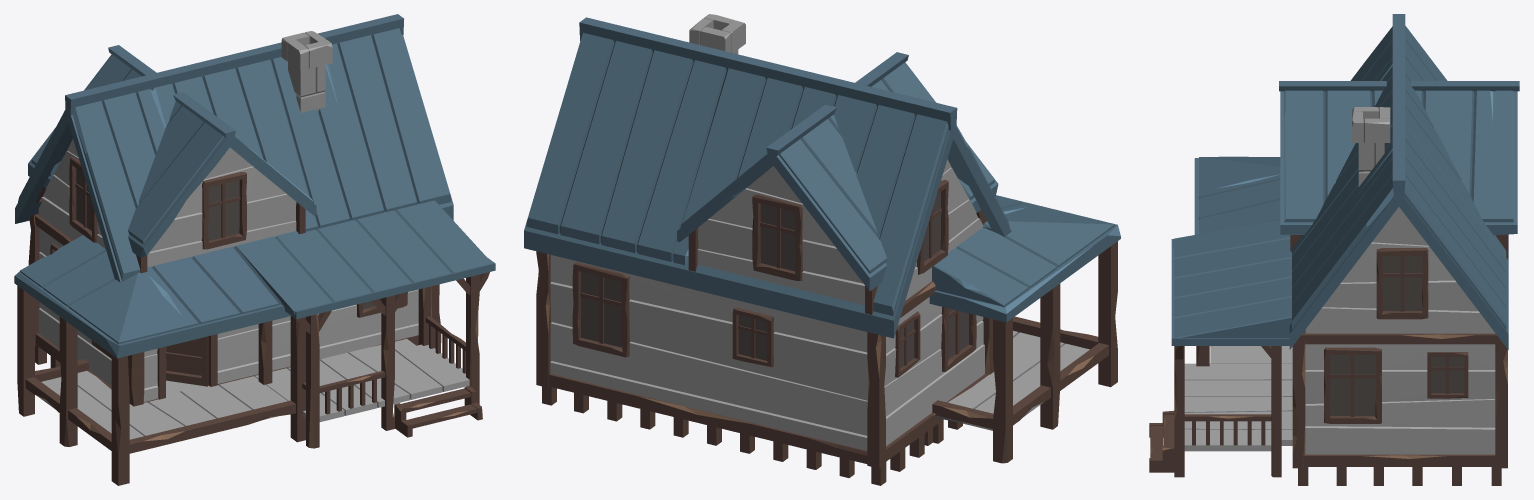
File: House_6.fbx
3 renders of one model, left to right at view 1: azimuth 30°, elevation 25°; view 2: azimuth 150°, elevation 25°; view 3: azimuth 270°, elevation 25°, orthographic. The views are drawn at different scales.
Parts seen in each view (by area): view 1: House_6.001; view 2: House_6.001; view 3: House_6.001.
Part boxes in pixels (x1,y1,x2,y2): House_6.001: (14, 14, 495, 485); House_6.001: (524, 14, 1120, 485); House_6.001: (1149, 14, 1519, 485).
Size of the model in its own units: 265 by 209 by 216.
